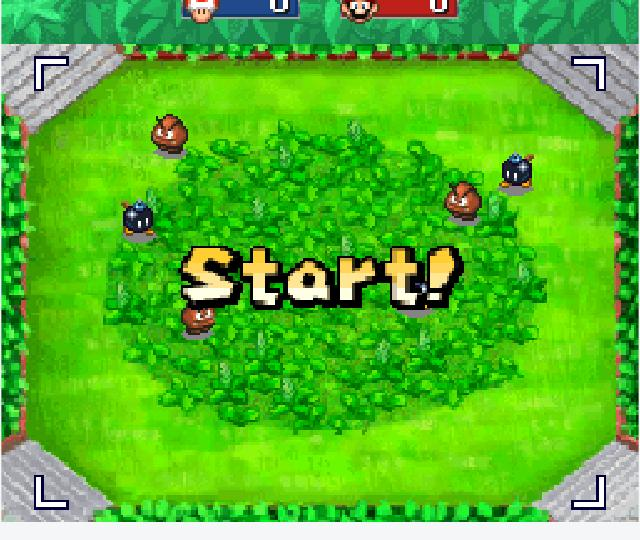bomb: (118, 197, 159, 240), (499, 150, 538, 195)
goomba: (147, 111, 193, 159), (441, 178, 486, 226), (179, 302, 218, 339)
